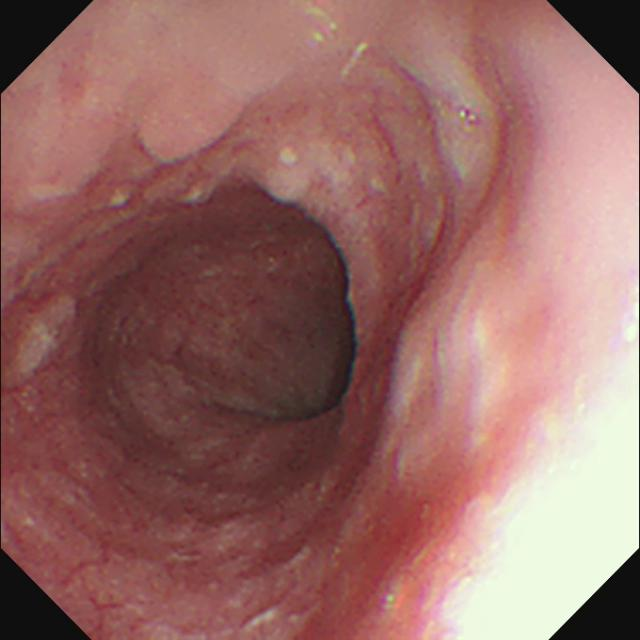A: (229, 467, 361, 586), (386, 185, 461, 340), (154, 275, 273, 353)
E: (307, 270, 362, 423)
J: (2, 296, 77, 394), (138, 106, 249, 169)
U: (436, 350, 640, 640)
